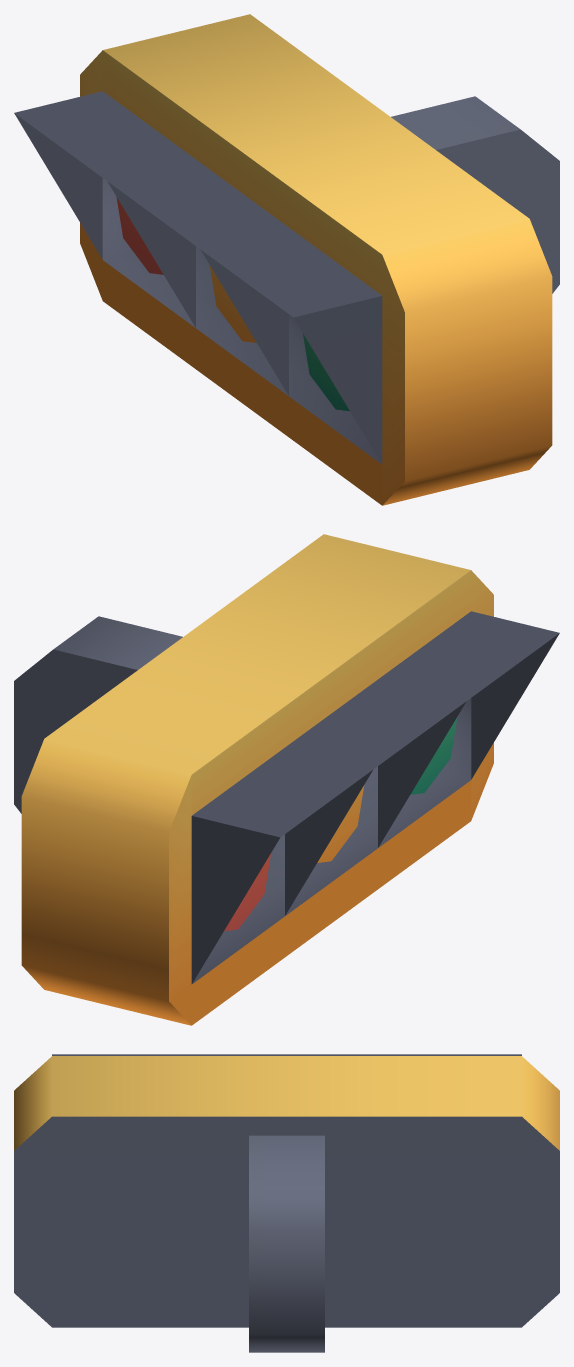
File: traffic-light-object-horizontal.glb
3 views of the same model, one above another, from view 1: azimuth 30°, elevation 25°; view 2: azimuth 150°, elevation 25°; view 3: azimuth 270°, elevation 25° (orthographic). The views are drawn at different scales.
Parts seen in each view (by area): view 1: traffic-light-object-horizontal; view 2: traffic-light-object-horizontal; view 3: traffic-light-object-horizontal.
Part boxes in pixels (box(x1,y1,x2,y2)): traffic-light-object-horizontal: box(14, 14, 559, 505); traffic-light-object-horizontal: box(14, 534, 559, 1025); traffic-light-object-horizontal: box(14, 1054, 559, 1352).
Size of the model in its own units: 0.0976 by 0.0611 by 0.1432.
1 material, 1 textured.
